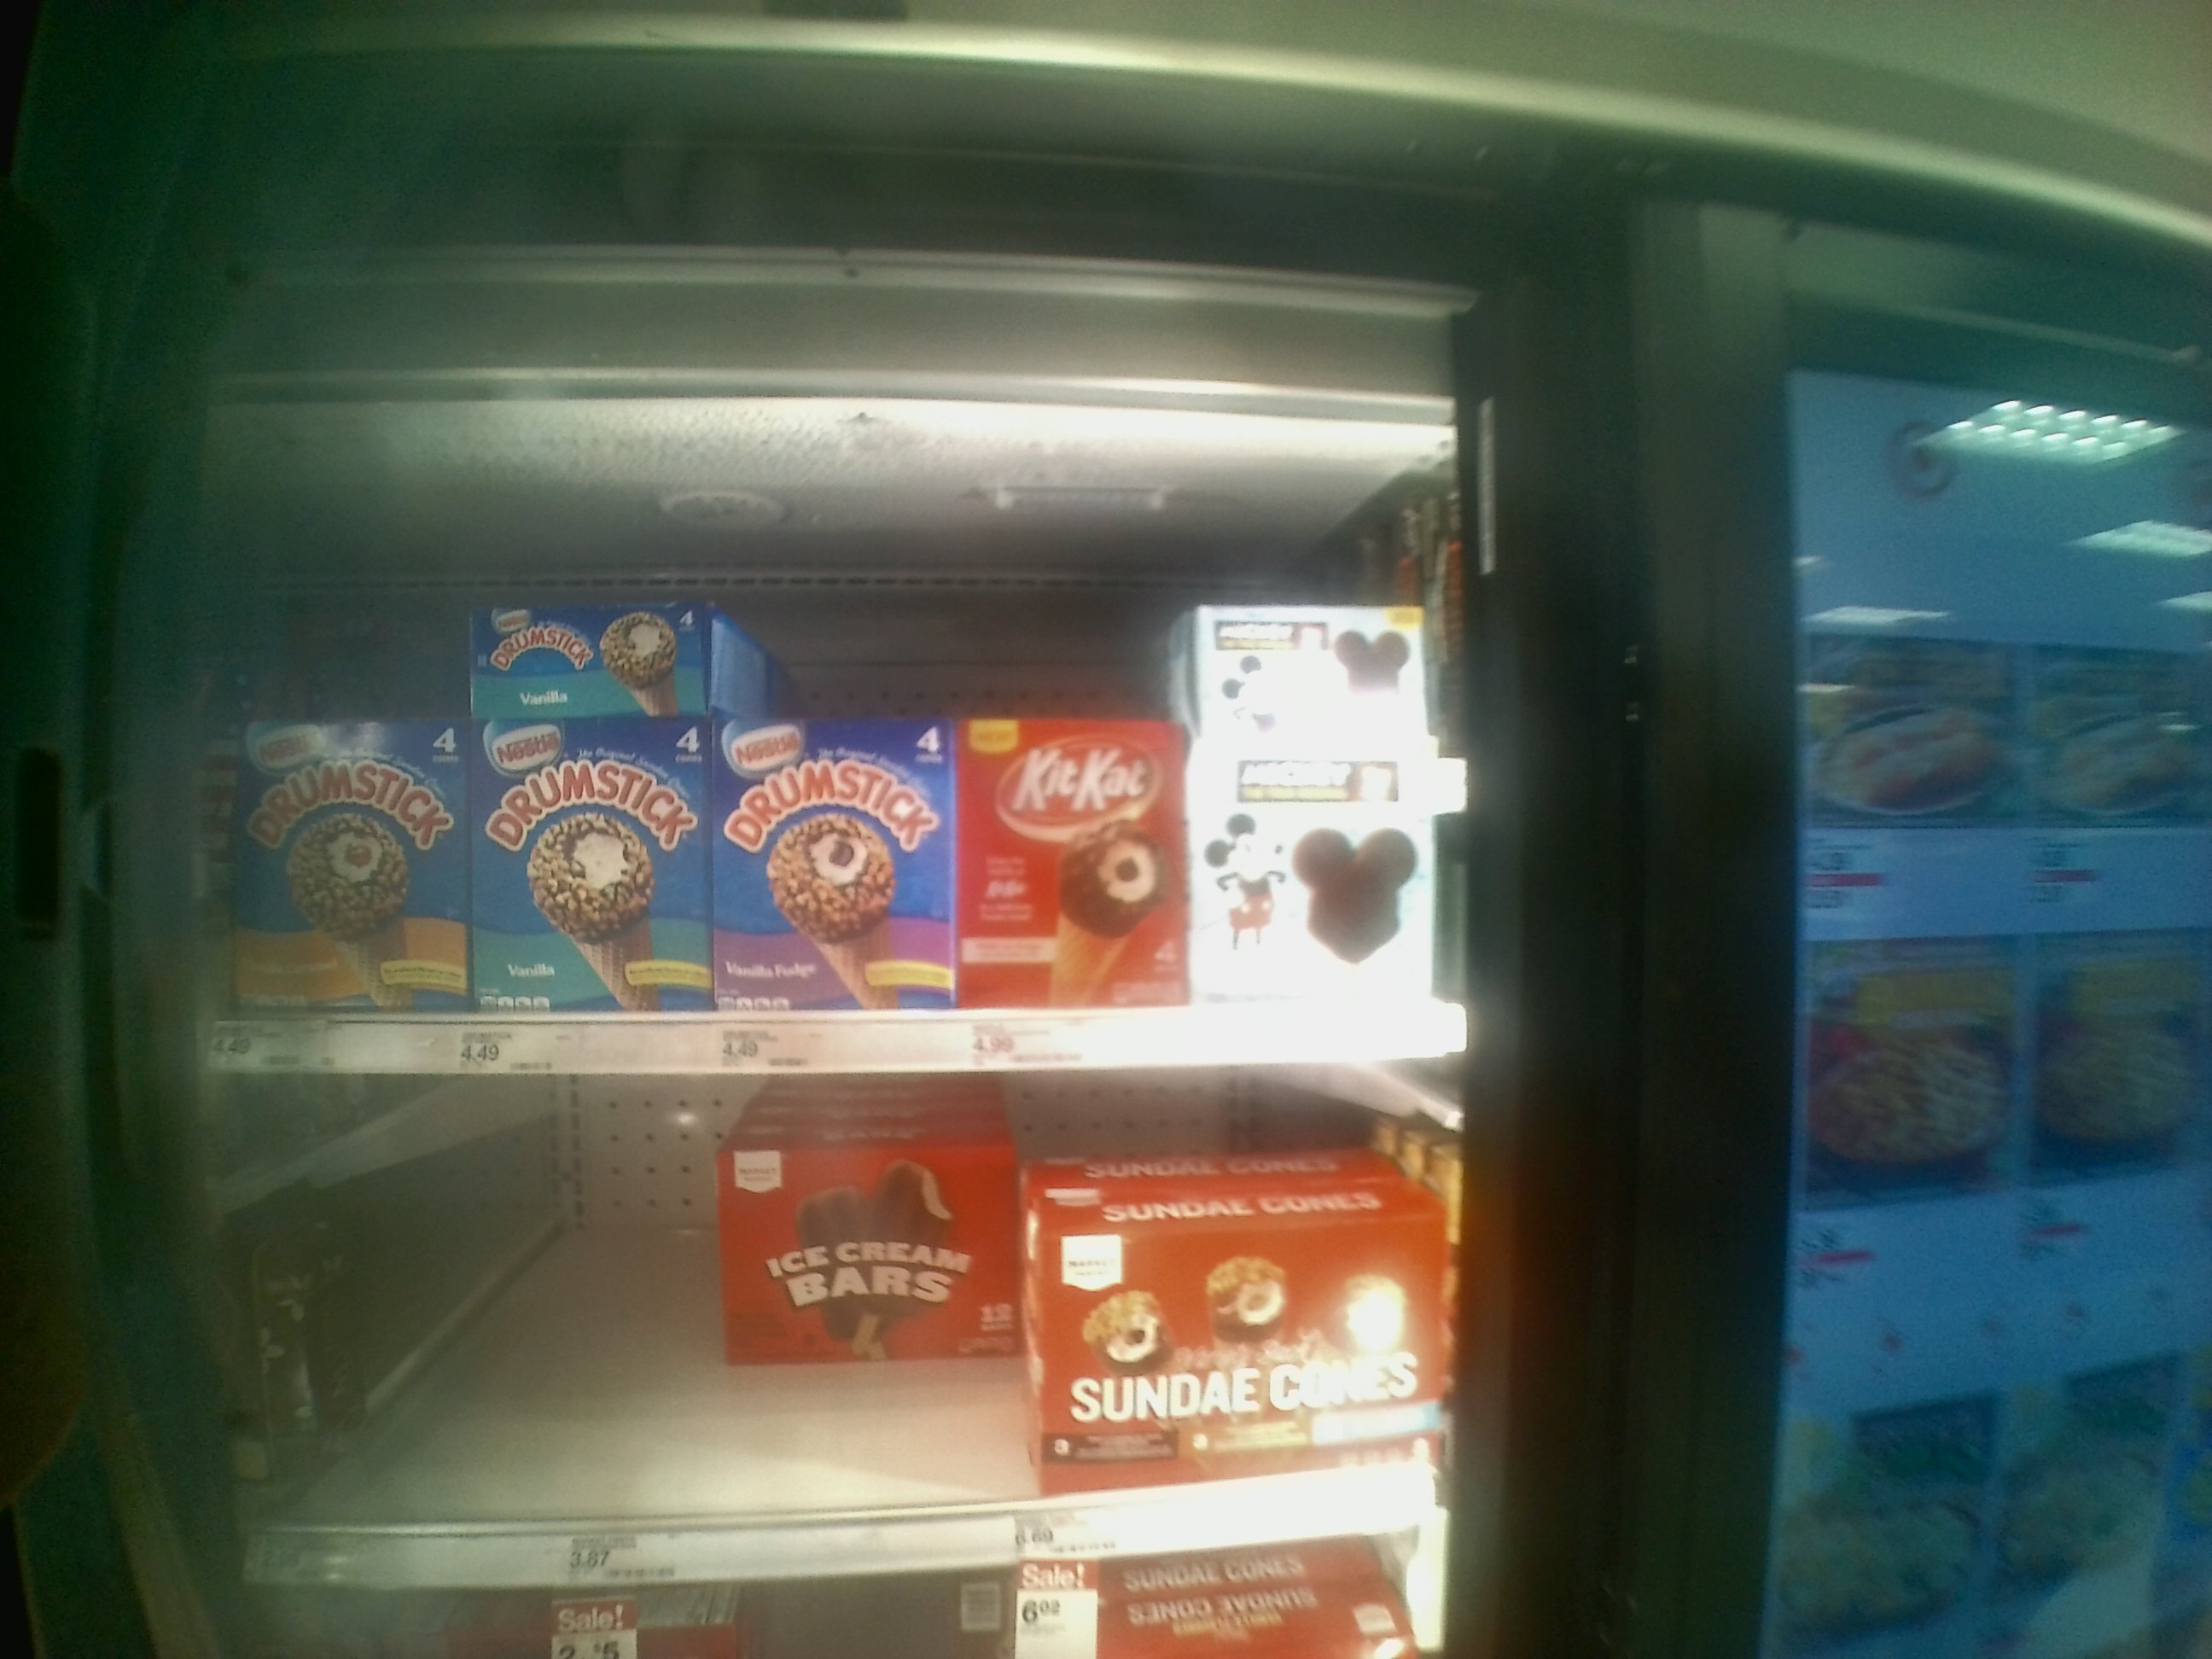shelf: (172, 540, 1465, 1070), (176, 1073, 1468, 1582)
